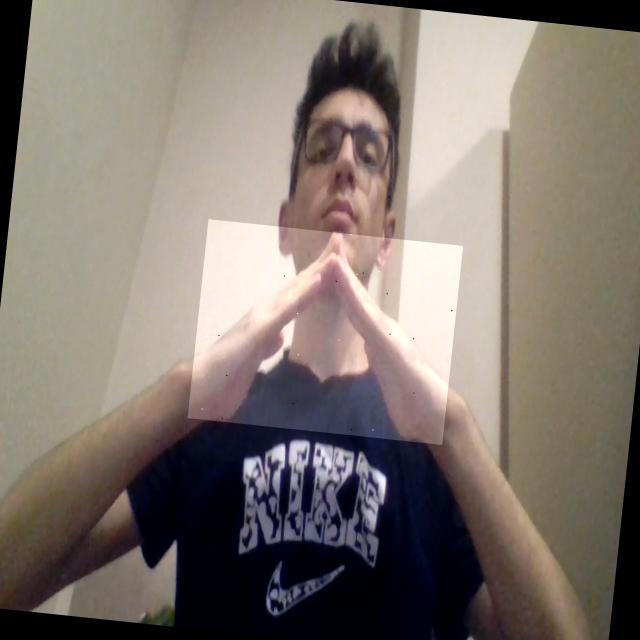house: (188, 218, 463, 444)
